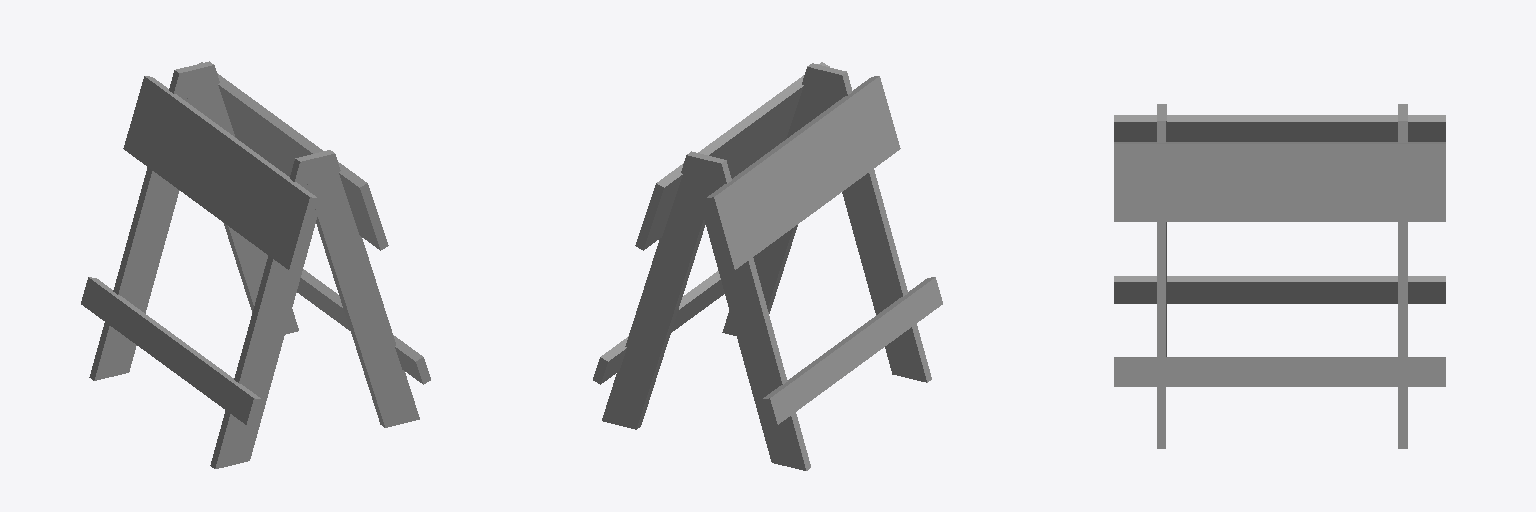
File: Traffic-Easel.obj
3 renders of one model, left to right at view 1: azimuth 30°, elevation 25°; view 2: azimuth 150°, elevation 25°; view 3: azimuth 270°, elevation 25°, orthographic.
Visible parts, largest first — view 1: Traffic-Easel_Plane.008; view 2: Traffic-Easel_Plane.008; view 3: Traffic-Easel_Plane.008.
Boxes of the visible parts, <box> form: Traffic-Easel_Plane.008: <box>81,61,430,468</box>; Traffic-Easel_Plane.008: <box>593,62,942,470</box>; Traffic-Easel_Plane.008: <box>1114,104,1445,448</box>.
Size of the model in its own units: 1.43 by 1.91 by 2.